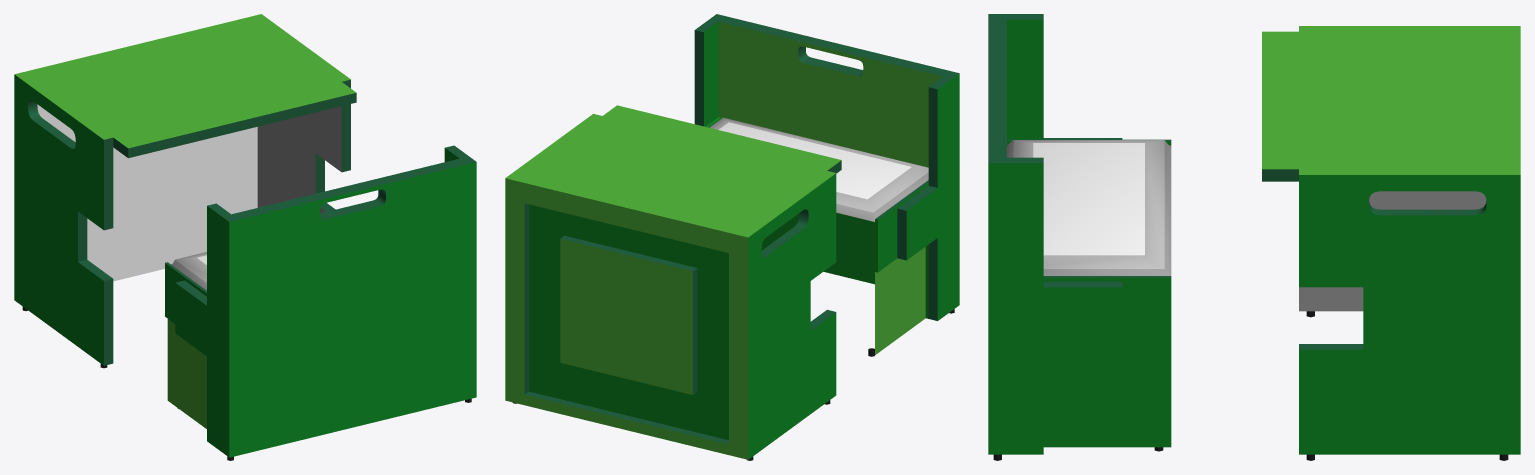
File: Studant Table Chair LEVEL-2-3.fbx
3 views of the same model, side by side, from view 1: azimuth 30°, elevation 25°; view 2: azimuth 150°, elevation 25°; view 3: azimuth 270°, elevation 25° (orthographic). The views are drawn at different scales.
Parts seen in each view (by area): view 1: Studant Table Chair LEVEL-2-3; view 2: Studant Table Chair LEVEL-2-3; view 3: Studant Table Chair LEVEL-2-3.
Boxes of the visible parts, <box> form: Studant Table Chair LEVEL-2-3: <box>14,14,476,460</box>; Studant Table Chair LEVEL-2-3: <box>505,14,959,460</box>; Studant Table Chair LEVEL-2-3: <box>988,14,1520,460</box>.
Bounding box in the file's own units: 7.11 × 6.63 × 10.71.
